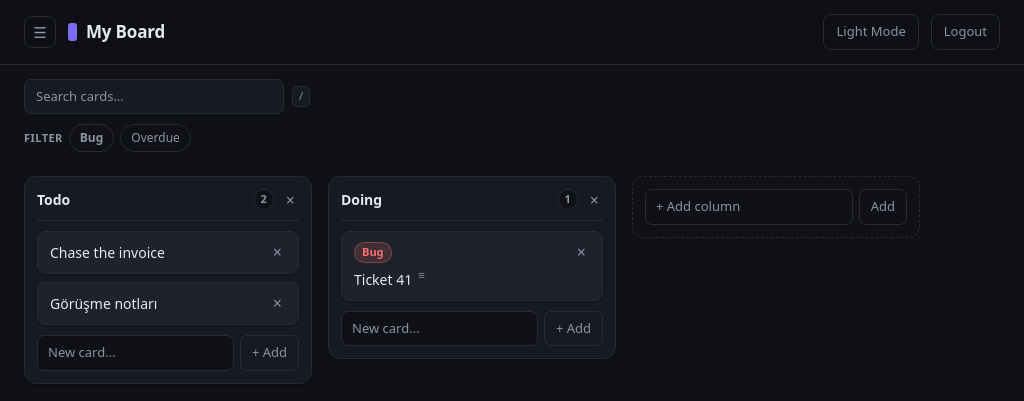
Scenario: searching the board › leaves the columns in place when nothing matches
Check: the heading "Todo" is shown, box [37,190,70,209]
Type "nothing here" into the search field labelled "Search cards" at (154, 96), box [24,78,284,114]
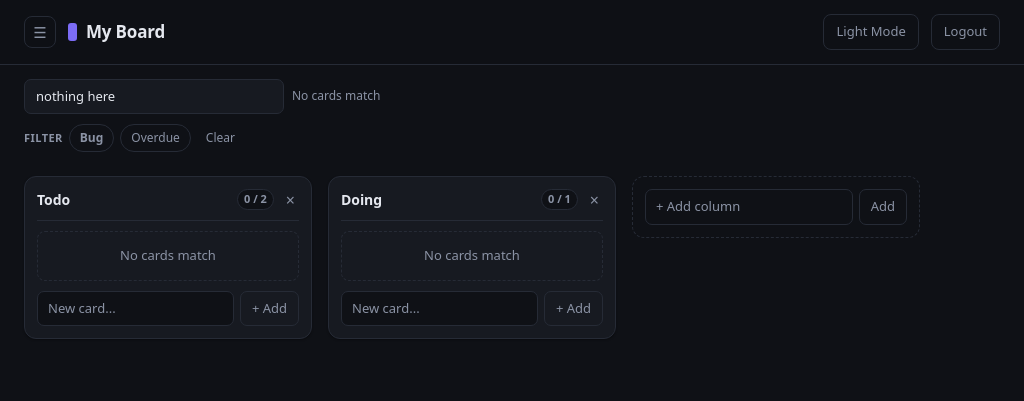
Check: the heading "Todo" is shown, box [37,190,70,209]
Check: the button "Chase the invoice" is gone
